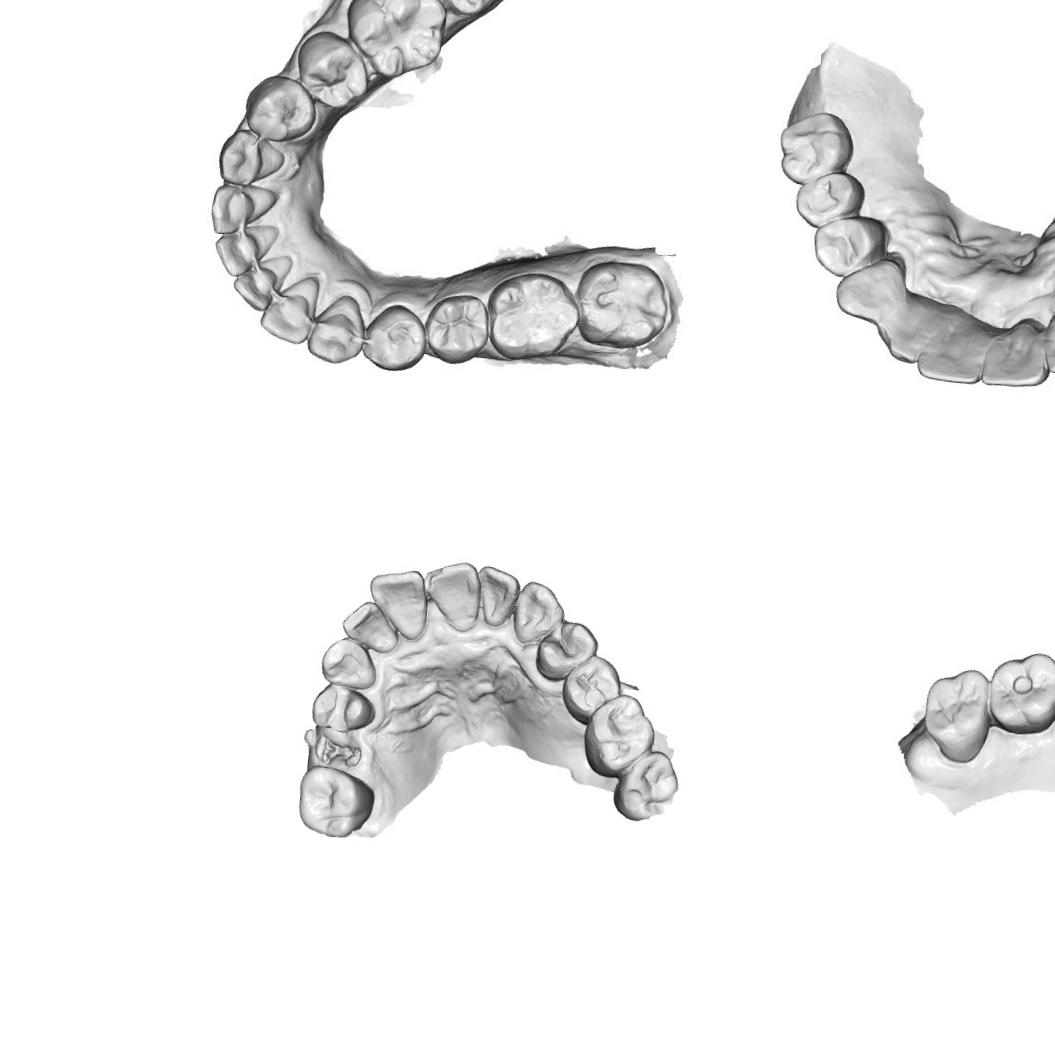canine: (305, 290, 366, 368), (216, 123, 288, 189), (834, 260, 906, 324), (509, 578, 569, 648), (319, 638, 382, 691)
incisor: (979, 314, 1055, 393), (362, 564, 432, 641), (418, 555, 486, 634), (256, 274, 324, 348), (916, 322, 989, 390), (208, 218, 278, 285), (203, 178, 275, 240), (229, 252, 296, 317), (338, 596, 405, 656), (471, 562, 522, 630), (874, 303, 927, 364), (1039, 307, 1055, 378)
molar: (482, 266, 588, 372), (574, 256, 673, 358), (345, 0, 450, 82), (918, 664, 997, 766), (579, 688, 662, 784), (292, 762, 380, 844), (774, 107, 860, 190), (981, 647, 1055, 740), (608, 744, 686, 827)
premolar: (293, 29, 371, 111), (809, 210, 892, 282), (244, 72, 322, 143), (556, 650, 627, 727), (790, 165, 868, 234), (424, 292, 494, 368), (532, 616, 604, 686), (362, 302, 426, 374), (308, 680, 379, 737)
